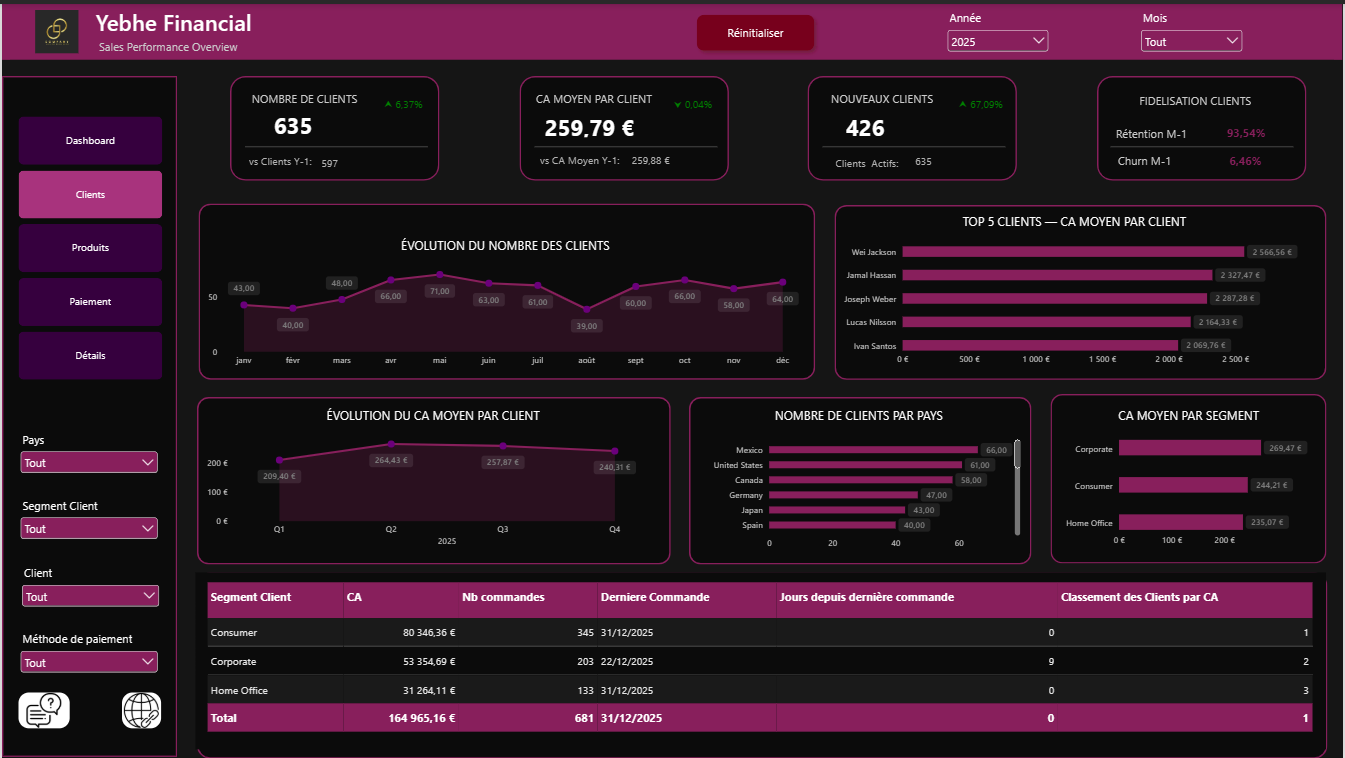

The dashboard page shown, as its layout file describes it:
{"tool":"powerbi","page":{"name":"Clients","canvas":[1920,1080],"ordinal":1},"visuals":[{"type":"shape","title":"top bar","box":[0,0,1919.7,80],"z":0},{"type":"shape","box":[281,285.7,883.3,252.4],"z":0,"group":"g9"},{"type":"shape","title":"sidebar","box":[0,103.8,250.9,975.5],"z":1000},{"type":"slicer","title":"slicer month_name","fields":{"Values":["dim_date.Month_name"]},"box":[1626.2,9.5,154.8,64.3],"z":2000},{"type":"shape","box":[1567.6,102.9,300,150],"z":2000,"group":"g1"},{"type":"shape","box":[327.3,103.1,300,150],"z":2000,"group":"g2"},{"type":"shape","box":[740.7,103.3,300,150],"z":2000,"group":"g3"},{"type":"shape","box":[1154.2,103.4,300,150],"z":2000,"group":"g4"},{"type":"textbox","title":"title dash","box":[124,4,251.5,47],"z":3000},{"type":"image","title":"logo","box":[40.9,7.6,75.8,62.1],"z":4000},{"type":"slicer","title":"year Slicer","fields":{"Values":["dim_date.Year"]},"box":[1350,9.5,154.5,62.1],"z":5000},{"type":"actionButton","box":[985.7,7.1,186.4,69.7],"z":6000},{"type":"slicer","title":"year Slicer","fields":{"Values":["dim_customer.Customer_Name"]},"box":[22.7,802.7,206.1,62.1],"z":7000},{"type":"group","id":"g1","title":"Group 1","box":[1567.6,102.9,300,150],"z":8000,"group":"g8"},{"type":"group","id":"g2","title":"Group 1","box":[327.3,103.1,300,153.4],"z":8000,"group":"g5"},{"type":"group","id":"g3","title":"Group 1","box":[740.7,103.3,300,150.2],"z":8000,"group":"g6"},{"type":"group","id":"g4","title":"Group 1","box":[1154.2,103.4,300,150],"z":8000,"group":"g7"},{"type":"shape","box":[984.8,563,490.5,239.8],"z":8000},{"type":"shape","box":[278.6,814.3,1619,266.7],"z":9000},{"type":"card","fields":{"Values":["_Mesures.CA Moyen Par Client LY"]},"box":[862.7,198.3,131,55.2],"z":10000,"group":"g3"},{"type":"card","fields":{"Values":["_Mesures.Clients LY"]},"box":[404.4,201.3,131,55.2],"z":10000,"group":"g2"},{"type":"card","fields":{"Values":["_Mesures.Nb Clients"]},"box":[1255.5,204.3,130.2,47.6],"z":10000,"group":"g4"},{"type":"slicer","title":"year Slicer","fields":{"Values":["dim_payment.Payment_Method"]},"box":[22,898,206.1,62.1],"z":10000},{"type":"card","fields":{"Values":["_Mesures.Nb Nouveux Clients"]},"box":[1157.8,145.7,156.9,62.7],"z":11000,"group":"g4"},{"type":"card","fields":{"Values":["_Mesures.Nb Clients"]},"box":[330.7,146,172.5,56.9],"z":11000,"group":"g2"},{"type":"card","fields":{"Values":["_Mesures.Ca Moyen Par Client"]},"box":[760.2,148.9,161.9,58.7],"z":11000,"group":"g3"},{"type":"card","fields":{"Values":["_Mesures.Rétention Affichage"]},"box":[1703.1,163.9,156.5,45.7],"z":11000,"group":"g1"},{"type":"shape","box":[278.6,562.6,678.6,239.8],"z":11000},{"type":"textbox","box":[759.6,198.3,152.3,46.2],"z":12000,"group":"g3"},{"type":"textbox","box":[343.6,200.8,122.7,43.9],"z":12000,"group":"g2"},{"type":"textbox","box":[1184.7,201.2,122.7,43.9],"z":12000,"group":"g4"},{"type":"lineChart","title":"ÉVOLUTION DU NOMBRE DES CLIENTS","fields":{"Category":["dim_date.Year Hiérarchie.Month_name"],"Y":["_Mesures.Nb Clients"]},"box":[281,319.2,881,218.9],"z":12000,"group":"g9"},{"type":"shape","box":[1502.4,559.5,395.2,242.9],"z":12000},{"type":"slicer","title":"year Slicer","fields":{"Values":["dim_segment.Customer_Segment"]},"box":[22,707.3,206.1,62.1],"z":13000},{"type":"slicer","title":"year Slicer","fields":{"Values":["dim_country.Country"]},"box":[22,612,206.1,62.1],"z":14000},{"type":"clusteredBarChart","title":"NOMBRE DE CLIENTS PAR PAYS","fields":{"Category":["dim_country.Country"],"Y":["_Mesures.Nb Clients"]},"box":[982.6,563,492.9,238.3],"z":15000},{"type":"pageNavigator","box":[22.7,160.6,206.1,378.8],"z":16000},{"type":"shape","box":[349,200.1,262.1,9.1],"z":16000,"group":"g5"},{"type":"shape","box":[762.4,200.3,262.1,9.1],"z":16000,"group":"g6"},{"type":"shape","box":[1175.9,200.4,262.1,9.1],"z":16000,"group":"g7"},{"type":"textbox","box":[130,50,214,30],"z":17000},{"type":"textbox","box":[347.5,123.7,175,39.6],"z":17000,"group":"g2"},{"type":"textbox","box":[760.9,123.9,175,39.6],"z":17000,"group":"g3"},{"type":"textbox","box":[1174.4,124,175,39.6],"z":17000,"group":"g4"},{"type":"textbox","box":[1625.2,125.8,165.7,40],"z":17000,"group":"g1"},{"type":"card","fields":{"Values":["_Mesures.Badge Evolution Clients"]},"box":[532,125.5,87.9,40.9],"z":19000,"group":"g2"},{"type":"card","fields":{"Values":["_Mesures.Badge CA Moyen Par Client %"]},"box":[945.4,125.7,87.9,40.9],"z":19000,"group":"g3"},{"type":"card","fields":{"Values":["_Mesures.Badge Nouveaux Client %"]},"box":[1358.9,125.8,87.9,40.9],"z":19000,"group":"g4"},{"type":"group","id":"g5","title":"Group 2","box":[327.3,103.1,300,153.4],"z":20000},{"type":"group","id":"g6","title":"Group 2","box":[740.7,103.3,300,150.2],"z":21000},{"type":"group","id":"g7","title":"Group 2","box":[1154.2,103.4,300,150],"z":22000},{"type":"group","id":"g8","title":"Group 2","box":[1567.6,102.9,300,150],"z":23000},{"type":"textbox","box":[1582.6,173.9,126.1,37],"z":24000},{"type":"card","fields":{"Values":["_Mesures.Churn Affichage"]},"box":[1702.2,202.2,158.7,50],"z":25000},{"type":"shape","box":[1588.6,200,262.1,9.1],"z":26000},{"type":"clusteredBarChart","title":"CA MOYEN PAR SEGMENT","fields":{"Category":["dim_segment.Customer_Segment"],"Y":["_Mesures.Ca Moyen Par Client"]},"box":[1504.3,563,393.5,234.8],"z":27000},{"type":"group","id":"g9","title":"Group 4","box":[281,285.7,1616.7,252.4],"z":28000},{"type":"tableEx","fields":{"Values":["dim_segment.Customer_Segment","_Mesures.CA","_Mesures.Nb Orders","_Mesures.Derniere Commande","_Mesures.Jours depuis dernière commande","_Mesures.Classement des Clients par CA"]},"box":[278,814.6,1619.5,253.7],"z":29000},{"type":"shape","box":[1192.9,287.7,704.8,250.4],"z":30000,"group":"g9"},{"type":"lineChart","title":"ÉVOLUTION DU CA MOYEN PAR CLIENT","fields":{"Category":["dim_date.Year Hiérarchie.Year","dim_date.Year Hiérarchie.Quarter_name","dim_date.Year Hiérarchie.Month_name"],"Y":["_Mesures.Ca Moyen Par Client"]},"box":[278.6,562.6,678.6,239.8],"z":30000},{"type":"image","box":[23.6,986.2,73.1,51.6],"z":30001},{"type":"image","box":[171.9,986.2,55.9,51.6],"z":30002},{"type":"textbox","box":[1597.4,213,127.7,30.8],"z":30501,"group":"g8"},{"type":"clusteredBarChart","title":"TOP 5 CLIENTS — CA MOYEN PAR CLIENT","fields":{"Category":["dim_customer.Customer_Name"],"Y":["_Mesures.Ca Moyen Par Client"]},"box":[1185.8,285.7,702.4,252.4],"z":31000,"group":"g9"}]}

Visuals, with their boxes in screenshot pixels (x1, y1, x2, y2), scaled from the page's 1920x1080 canvas onto the 1345x758 screenshot:
"top bar" shape: 0,0,1344,56
shape: 197,201,816,378
"sidebar" shape: 0,73,176,757
"slicer month_name" slicer: 1139,7,1248,52
shape: 1098,72,1308,177
shape: 229,72,439,178
shape: 519,73,729,178
shape: 809,73,1019,178
"title dash" textbox: 87,3,263,36
"logo" image: 29,5,82,49
"year Slicer" slicer: 946,7,1054,50
actionButton: 691,5,821,54
"year Slicer" slicer: 16,563,160,607
"Group 1" group: 1098,72,1308,177
"Group 1" group: 229,72,439,180
"Group 1" group: 519,73,729,178
"Group 1" group: 809,73,1019,178
shape: 690,395,1033,563
shape: 195,572,1329,757
card - _Mesures.CA Moyen Par Client LY: 604,139,696,178
card - _Mesures.Clients LY: 283,141,375,180
card - _Mesures.Nb Clients: 880,143,971,177
"year Slicer" slicer: 15,630,160,674
card - _Mesures.Nb Nouveux Clients: 811,102,921,146
card - _Mesures.Nb Clients: 232,102,353,142
card - _Mesures.Ca Moyen Par Client: 533,105,646,146
card - _Mesures.Rétention Affichage: 1193,115,1303,147
shape: 195,395,671,563
textbox: 532,139,639,172
textbox: 241,141,327,172
textbox: 830,141,916,172
"ÉVOLUTION DU NOMBRE DES CLIENTS" lineChart: 197,224,814,378
shape: 1052,393,1329,563
"year Slicer" slicer: 15,496,160,540
"year Slicer" slicer: 15,430,160,473
"NOMBRE DE CLIENTS PAR PAYS" clusteredBarChart: 688,395,1034,562
pageNavigator: 16,113,160,379
shape: 244,140,428,147
shape: 534,141,718,147
shape: 824,141,1007,147
textbox: 91,35,241,56
textbox: 243,87,366,115
textbox: 533,87,656,115
textbox: 823,87,945,115
textbox: 1138,88,1255,116
card - _Mesures.Badge Evolution Clients: 373,88,434,117
card - _Mesures.Badge CA Moyen Par Client %: 662,88,724,117
card - _Mesures.Badge Nouveaux Client %: 952,88,1014,117
"Group 2" group: 229,72,439,180
"Group 2" group: 519,73,729,178
"Group 2" group: 809,73,1019,178
"Group 2" group: 1098,72,1308,177
textbox: 1109,122,1197,148
card - _Mesures.Churn Affichage: 1192,142,1304,177
shape: 1113,140,1296,147
"CA MOYEN PAR SEGMENT" clusteredBarChart: 1054,395,1329,560
"Group 4" group: 197,201,1329,378
tableEx - dim_segment.Customer_Segment x _Mesures.CA: 195,572,1329,750
shape: 836,202,1329,378
"ÉVOLUTION DU CA MOYEN PAR CLIENT" lineChart: 195,395,671,563
image: 17,692,68,728
image: 120,692,160,728
textbox: 1119,149,1208,171
"TOP 5 CLIENTS — CA MOYEN PAR CLIENT" clusteredBarChart: 831,201,1323,378
